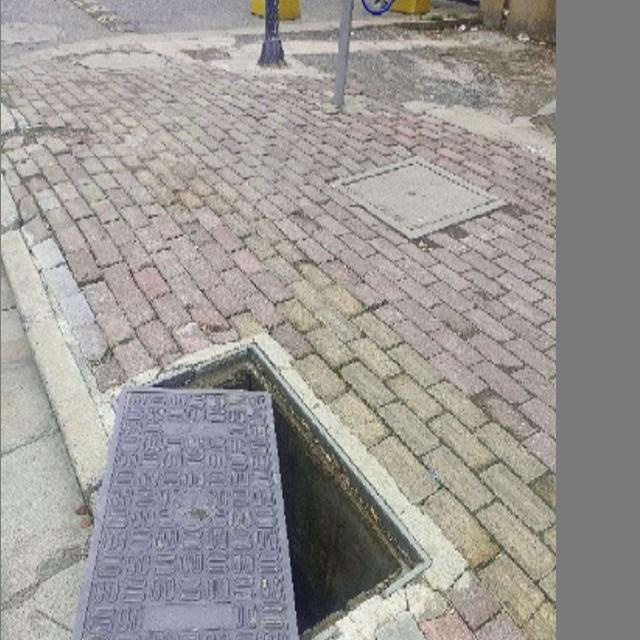good: (330, 155, 513, 242)
uncovered: (61, 324, 465, 640)
